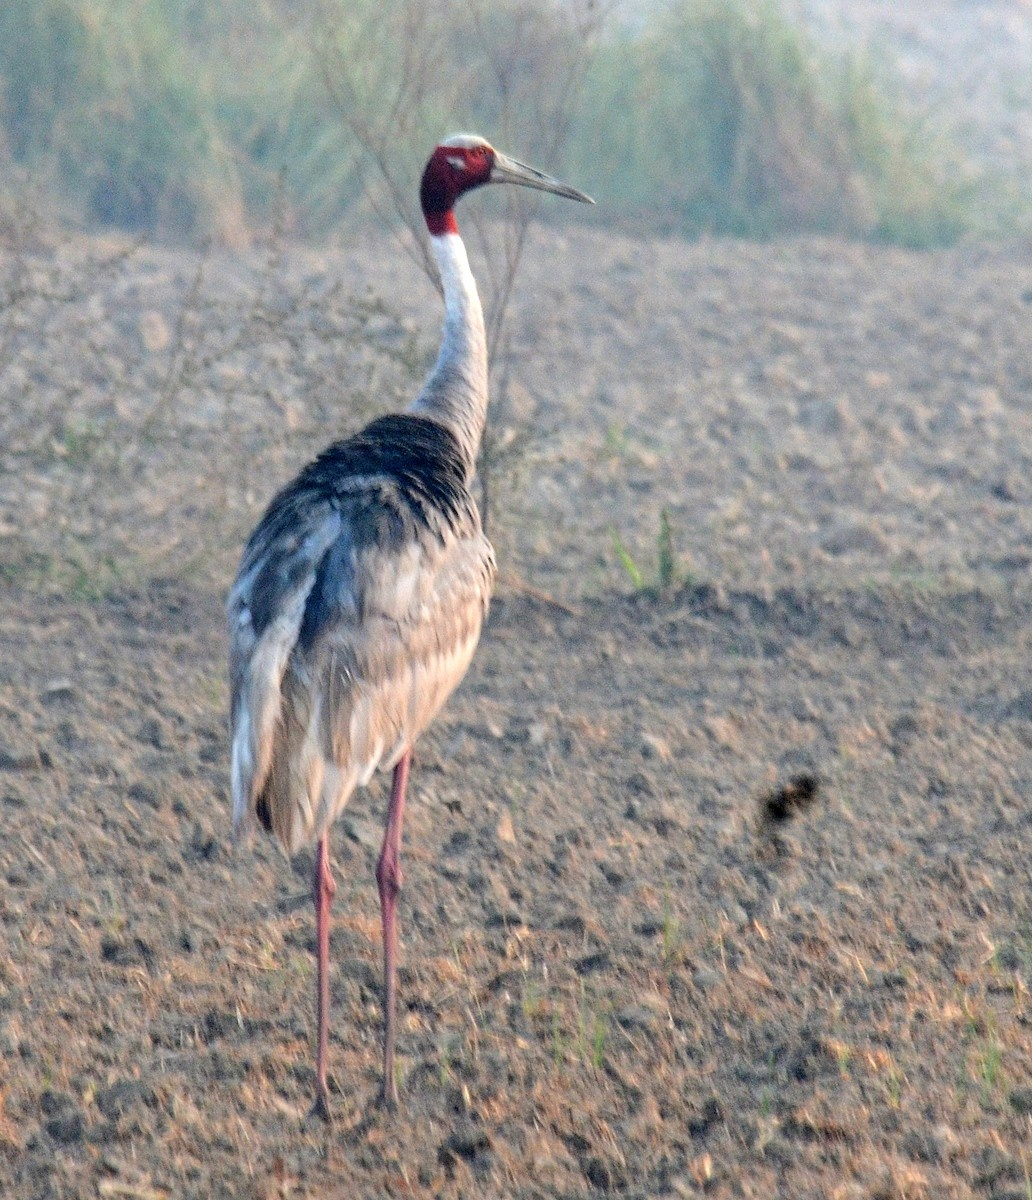crane: (200, 120, 604, 1124)
